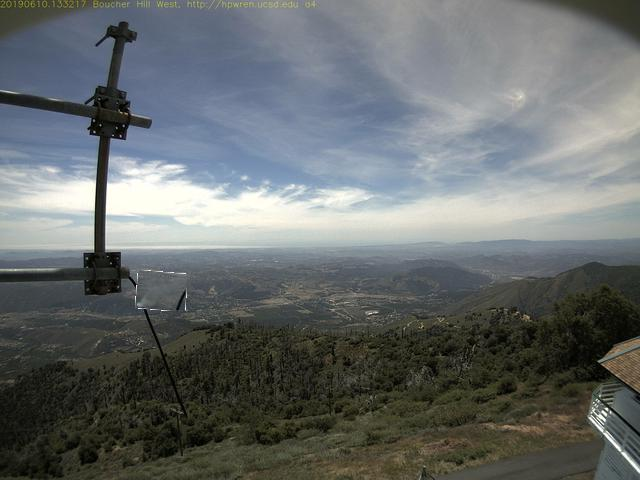smoke: (137, 272, 189, 312)
